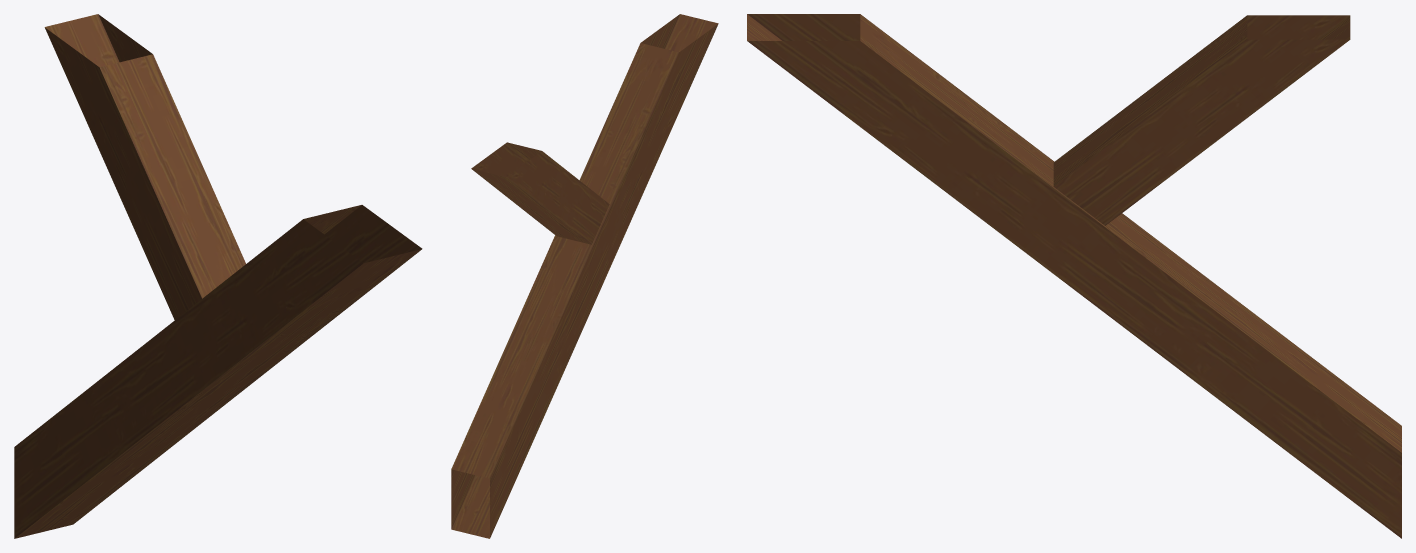
File: Prop_Support.gltf
3 views of the same model, side by side, from view 1: azimuth 30°, elevation 25°; view 2: azimuth 150°, elevation 25°; view 3: azimuth 270°, elevation 25° (orthographic). The views are drawn at different scales.
Parts seen in each view (by area): view 1: Prop_Support; view 2: Prop_Support; view 3: Prop_Support.
Boxes of the visible parts, x1=… form: Prop_Support: x1=14, y1=14, x2=422, y2=538; Prop_Support: x1=451, y1=14, x2=718, y2=538; Prop_Support: x1=747, y1=14, x2=1401, y2=538.
Bounding box in the file's own units: 0.1986 × 1.71 × 2.04.
1 material, 1 textured.
